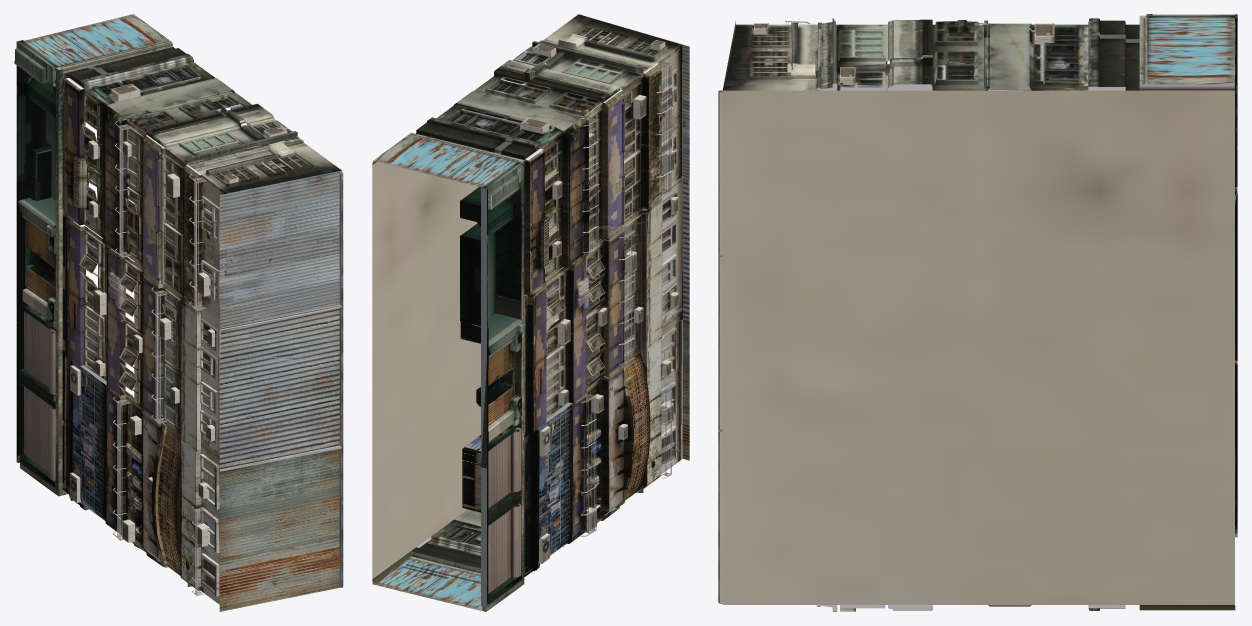
The model's file is b4_ready.obj.
The picture shows the model from 3 angles, left to right: view 1: azimuth 30°, elevation 25°; view 2: azimuth 150°, elevation 25°; view 3: azimuth 270°, elevation 25°; orthographic projection. The views are drawn at different scales.
Parts seen in each view (by area): view 1: Plane.003; view 2: Plane.003; view 3: Plane.003.
Part boxes in pixels (bbox=[...]): Plane.003: bbox=[14, 14, 343, 611]; Plane.003: bbox=[372, 14, 689, 611]; Plane.003: bbox=[718, 14, 1237, 611].
Bounding box in the file's own units: 5.8 × 20.11 × 17.46.
